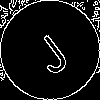J: (25, 25, 73, 77)
